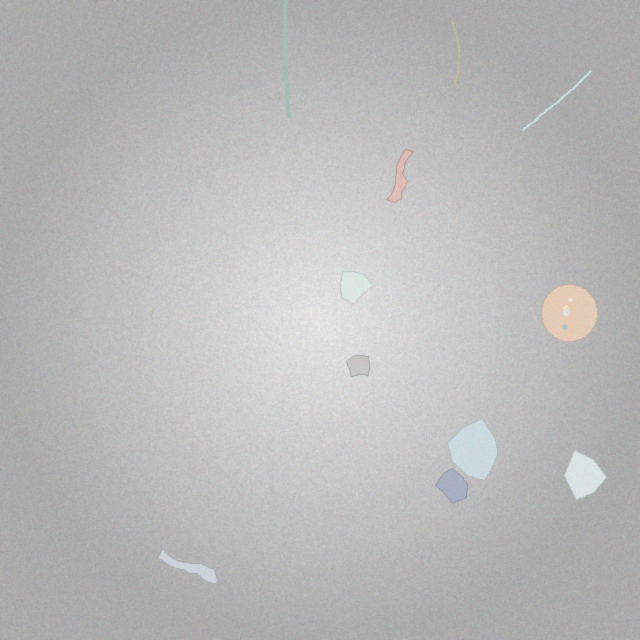fiber: (520, 70, 593, 132), (280, 0, 293, 122), (449, 19, 461, 87)
film: (158, 548, 217, 584), (387, 149, 413, 202)
foam: (541, 285, 598, 341)
fragment: (447, 419, 497, 481), (564, 451, 607, 500), (435, 469, 468, 503), (341, 272, 373, 305), (347, 355, 369, 377)
